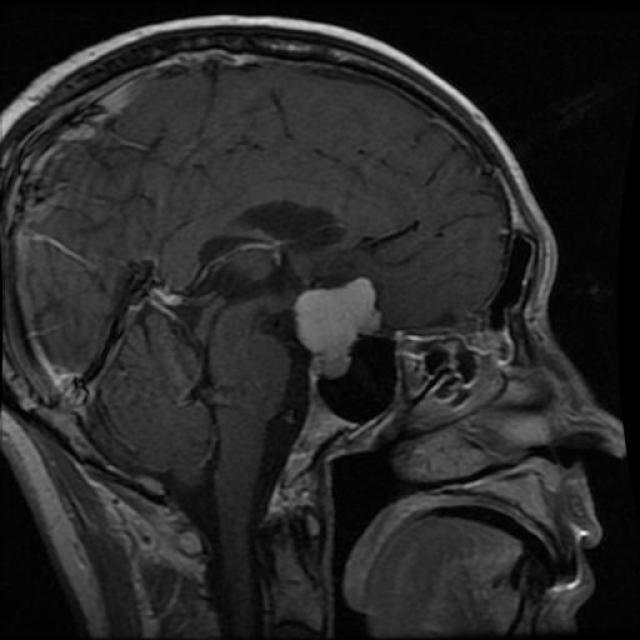meningioma: (292, 278, 382, 360)
